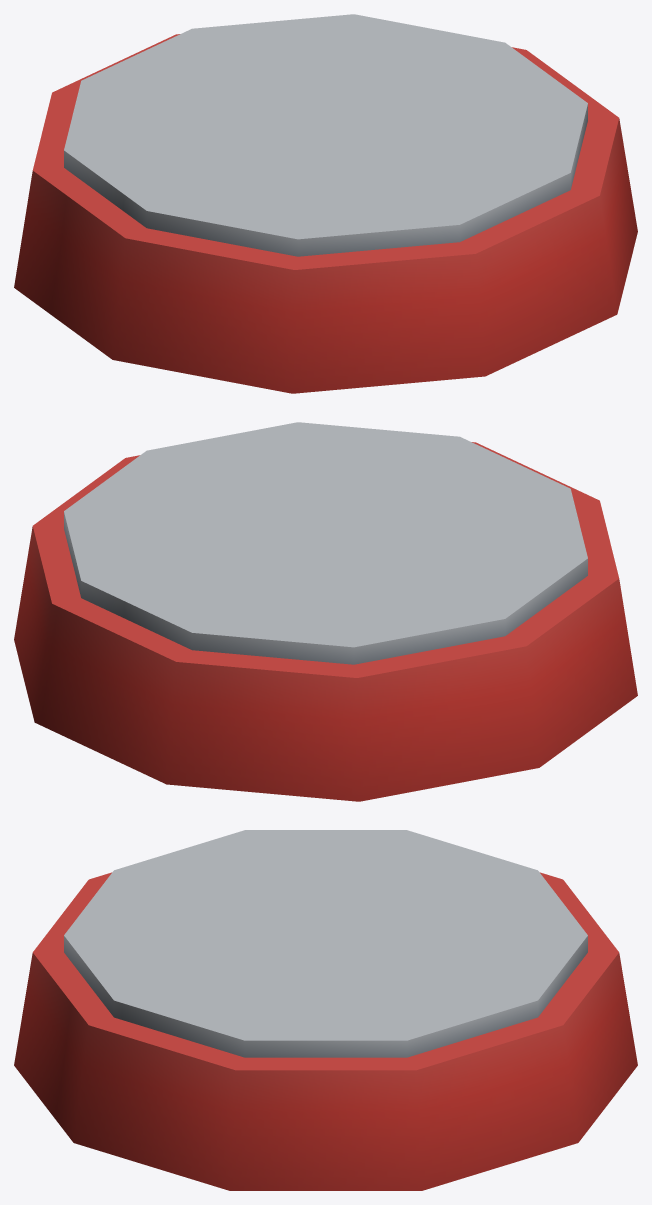
The model's file is dt_bottle_cap.fbx.
3 renders of one model, top to bottom at view 1: azimuth 30°, elevation 25°; view 2: azimuth 150°, elevation 25°; view 3: azimuth 270°, elevation 25°, orthographic. The views are drawn at different scales.
Parts seen in each view (by area): view 1: dt_bottle_cap; view 2: dt_bottle_cap; view 3: dt_bottle_cap.
Boxes of the visible parts, x1,y1,x2,y2 form: dt_bottle_cap: (14,14,637,393); dt_bottle_cap: (14,422,637,801); dt_bottle_cap: (14,830,637,1190).
Size of the model in its own units: 28.53 by 6.9 by 30.
